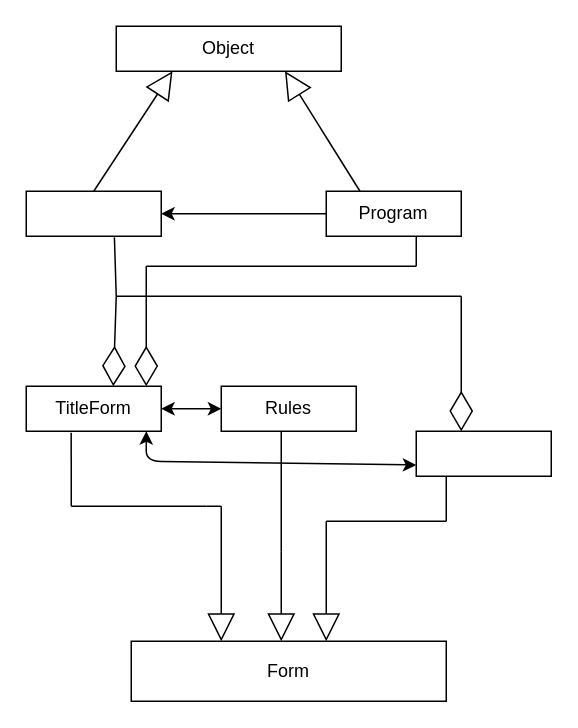
This 578x728 diagram has some shape labels left out. The box of each missing label's shape, as (x1, y1, x2, y2) in pixels:
MasterForm: (415, 430, 551, 476)
PlaySound: (25, 190, 161, 236)
